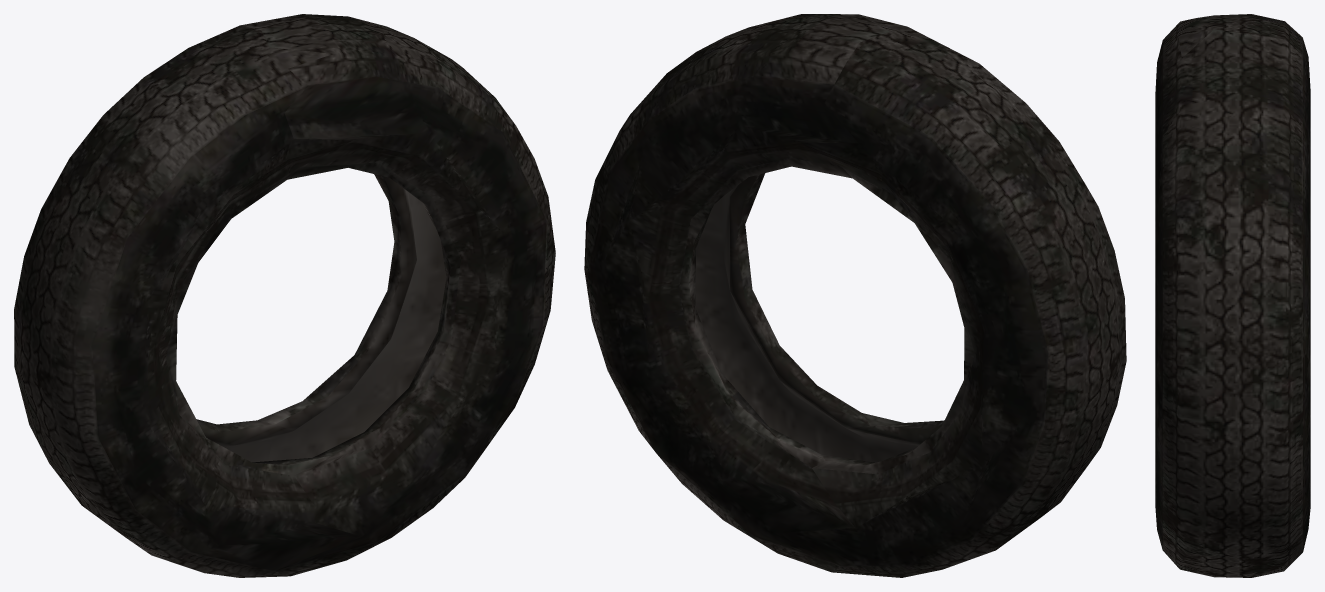
Rendered from yardprop_old_tyre.glb.
3 renders of one model, left to right at view 1: azimuth 30°, elevation 25°; view 2: azimuth 150°, elevation 25°; view 3: azimuth 270°, elevation 25°, orthographic. The views are drawn at different scales.
Parts seen in each view (by area): view 1: old_tyre; view 2: old_tyre; view 3: old_tyre.
Boxes of the visible parts, x1,y1,x2,y2 form: old_tyre: (14,14,555,577); old_tyre: (584,14,1126,577); old_tyre: (1155,14,1310,577).
Size of the model in its own units: 0.5999 by 0.5998 by 0.165.
1 material, 1 textured.
